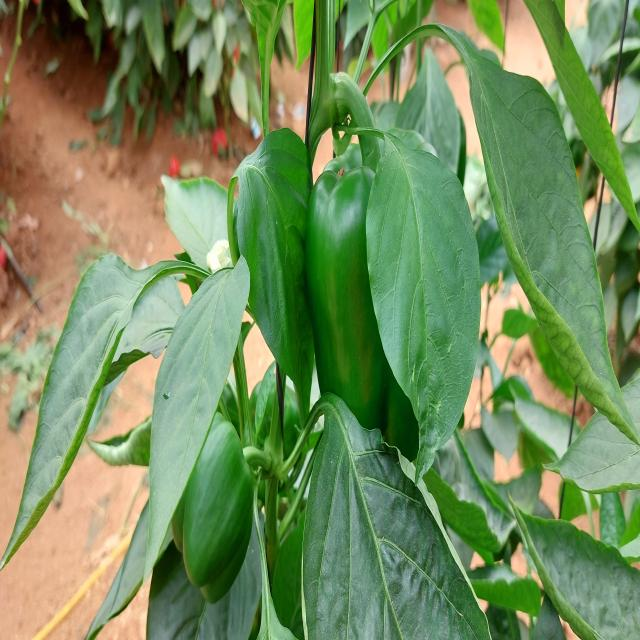Green--Not-ready-to-harvest: (310, 166, 442, 473), (158, 382, 260, 580)
